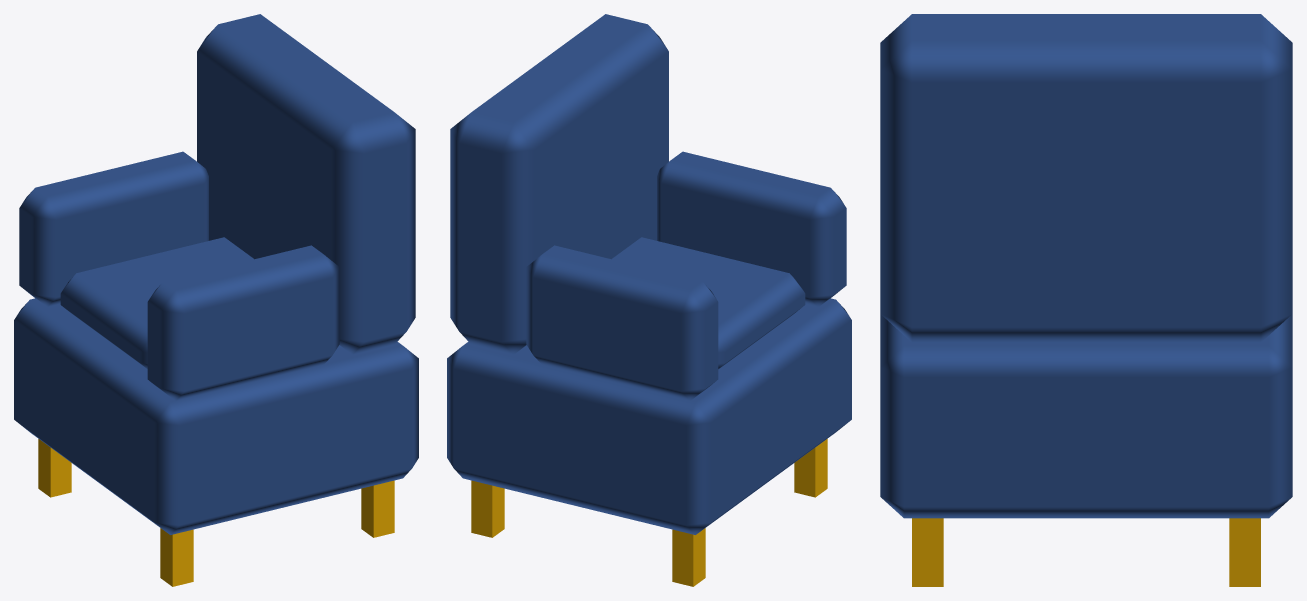
Rendered from station_special_ausstattung_3_0.glb.
3 renders of one model, left to right at view 1: azimuth 30°, elevation 25°; view 2: azimuth 150°, elevation 25°; view 3: azimuth 270°, elevation 25°, orthographic. The views are drawn at different scales.
Parts seen in each view (by area): view 1: station_special_ausstattung_3_0; view 2: station_special_ausstattung_3_0; view 3: station_special_ausstattung_3_0.
Boxes of the visible parts, box(x1,y1,x2,y2) form: station_special_ausstattung_3_0: box(14, 14, 418, 586); station_special_ausstattung_3_0: box(447, 14, 851, 586); station_special_ausstattung_3_0: box(880, 14, 1292, 586).
Bounding box in the file's own units: 0.5 × 0.76 × 0.52.
